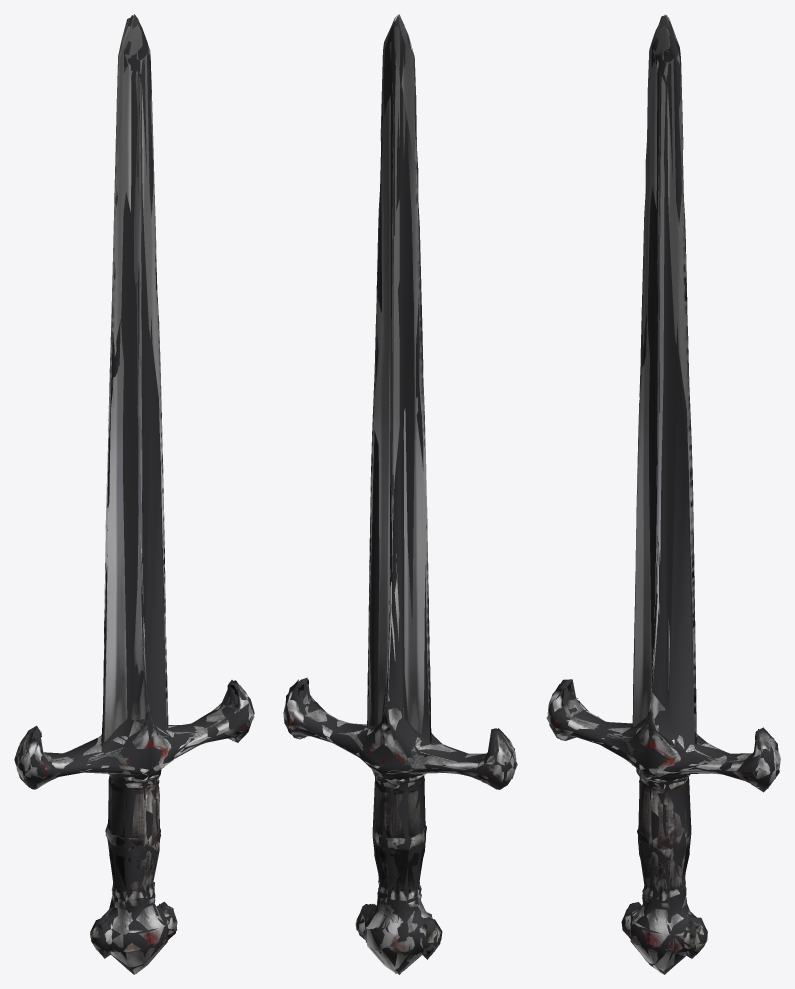
File: sword_collider.glb
3 renders of one model, left to right at view 1: azimuth 30°, elevation 25°; view 2: azimuth 150°, elevation 25°; view 3: azimuth 330°, elevation 25°, orthographic.
Parts seen in each view (by area): view 1: Mesh_0.001, Mesh_0; view 2: Mesh_0, Mesh_0.001; view 3: Mesh_0.001, Mesh_0.
Boxes of the visible parts, x1,y1,x2,y2 form: Mesh_0.001: (14,15,254,974); Mesh_0: (16,14,254,973); Mesh_0: (283,14,517,973); Mesh_0.001: (284,15,515,974); Mesh_0.001: (548,15,779,974); Mesh_0: (546,14,780,973).
Size of the model in its own units: 0.221 by 0.8809 by 0.0609.
1 material, 1 textured.
